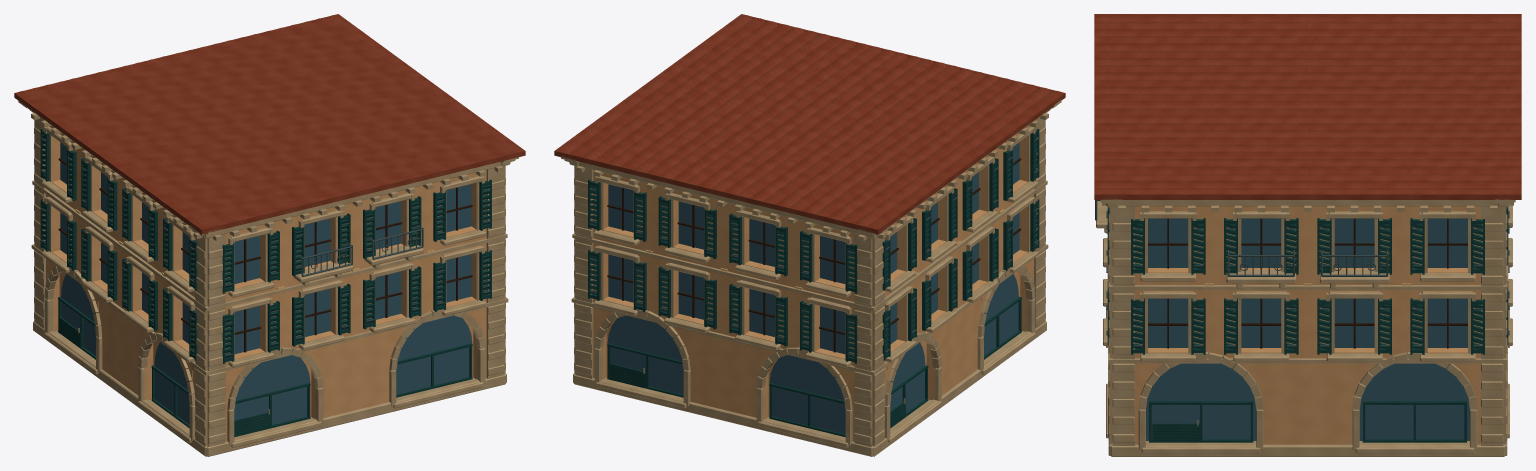
The model's file is atelier-original.glb.
3 renders of one model, left to right at view 1: azimuth 30°, elevation 25°; view 2: azimuth 150°, elevation 25°; view 3: azimuth 270°, elevation 25°, orthographic. The views are drawn at different scales.
Visible parts, largest first — view 1: Barrel terracotta, Honey limestone, Atelier ochre plaster, Deep blue glazing, Aged teal timber, Graphite iron, Oiled walnut; view 2: Barrel terracotta, Honey limestone, Atelier ochre plaster, Deep blue glazing, Aged teal timber, Oiled walnut, Graphite iron; view 3: Barrel terracotta, Honey limestone, Deep blue glazing, Atelier ochre plaster, Aged teal timber, Graphite iron, Oiled walnut.
Part boxes in pixels (x1,y1,x2,y2): Barrel terracotta: [14, 14, 525, 234]; Honey limestone: [18, 101, 518, 456]; Atelier ochre plaster: [46, 126, 486, 445]; Deep blue glazing: [60, 142, 472, 424]; Aged teal timber: [40, 129, 491, 437]; Graphite iron: [41, 137, 490, 356]; Oiled walnut: [58, 158, 472, 352]; Barrel terracotta: [554, 14, 1065, 234]; Honey limestone: [561, 100, 1061, 456]; Atelier ochre plaster: [593, 126, 1033, 445]; Deep blue glazing: [607, 142, 1019, 434]; Aged teal timber: [588, 129, 1039, 437]; Oiled walnut: [607, 158, 1021, 352]; Graphite iron: [589, 137, 1038, 356]; Barrel terracotta: [1094, 14, 1521, 199]; Honey limestone: [1096, 199, 1515, 456]; Deep blue glazing: [1146, 218, 1469, 440]; Atelier ochre plaster: [1112, 206, 1503, 444]; Aged teal timber: [1107, 207, 1508, 442]; Graphite iron: [1095, 200, 1509, 346]; Oiled walnut: [1148, 218, 1467, 348].
Bounding box in the file's own units: 13 × 9.03 × 13.
Materials: 8 (5 with a texture image).
